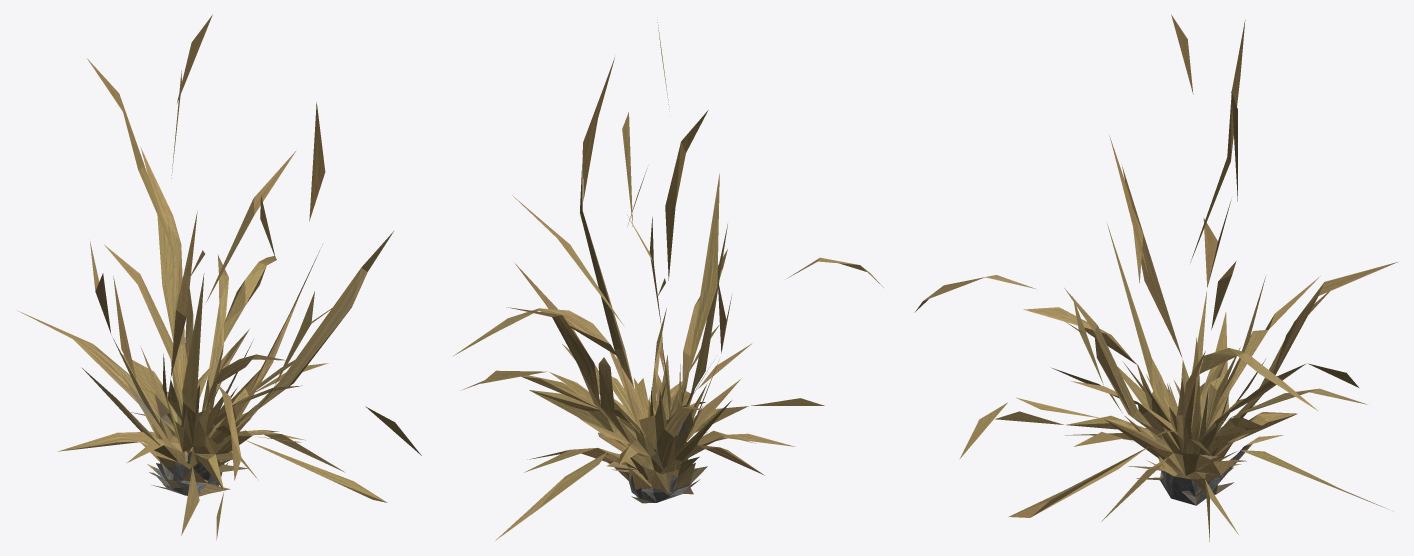
The model's file is tuft.glb.
3 views of the same model, side by side, from view 1: azimuth 30°, elevation 25°; view 2: azimuth 150°, elevation 25°; view 3: azimuth 270°, elevation 25° (orthographic). The views are drawn at different scales.
Bounding box in the file's own units: 1.07 × 1.83 × 1.66.
Materials: 1 (1 with a texture image).
